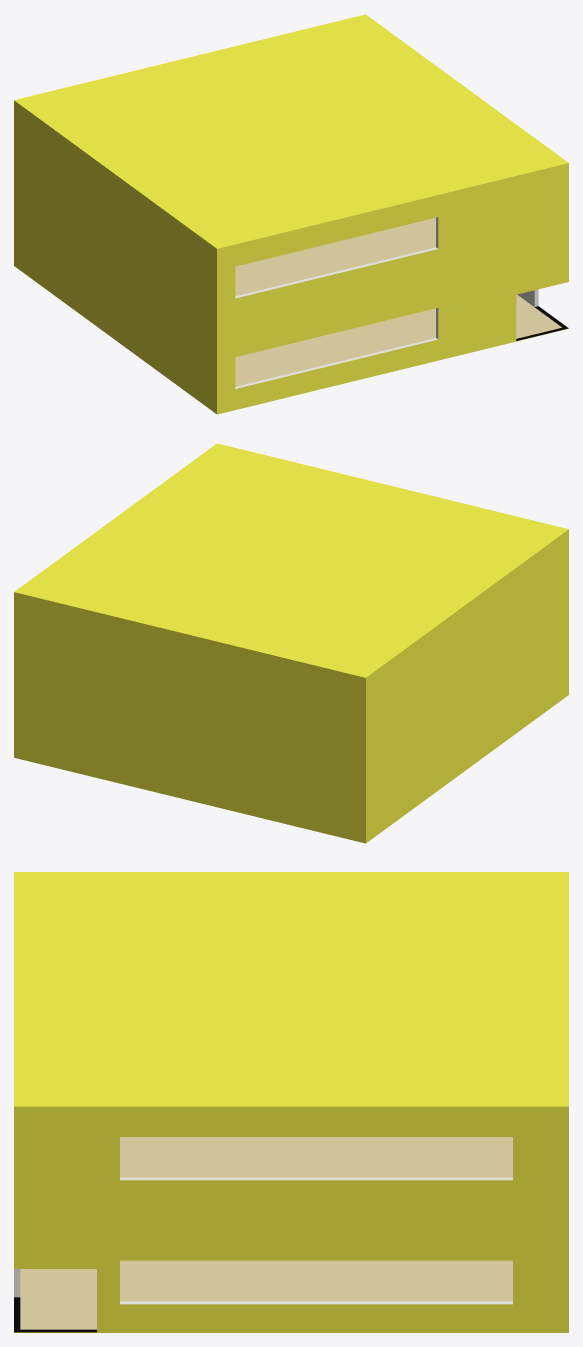
The model's file is Edificio3(ConFBX).fbx.
3 renders of one model, top to bottom at view 1: azimuth 30°, elevation 25°; view 2: azimuth 150°, elevation 25°; view 3: azimuth 270°, elevation 25°, orthographic. The views are drawn at different scales.
Parts seen in each view (by area): view 1: EdificioBase8; view 2: EdificioBase8; view 3: EdificioBase8.
Part boxes in pixels (x1,y1,x2,y2): EdificioBase8: [14, 14, 568, 414]; EdificioBase8: [14, 443, 568, 843]; EdificioBase8: [14, 872, 568, 1332].
Size of the model in its own units: 20 by 9 by 20.
